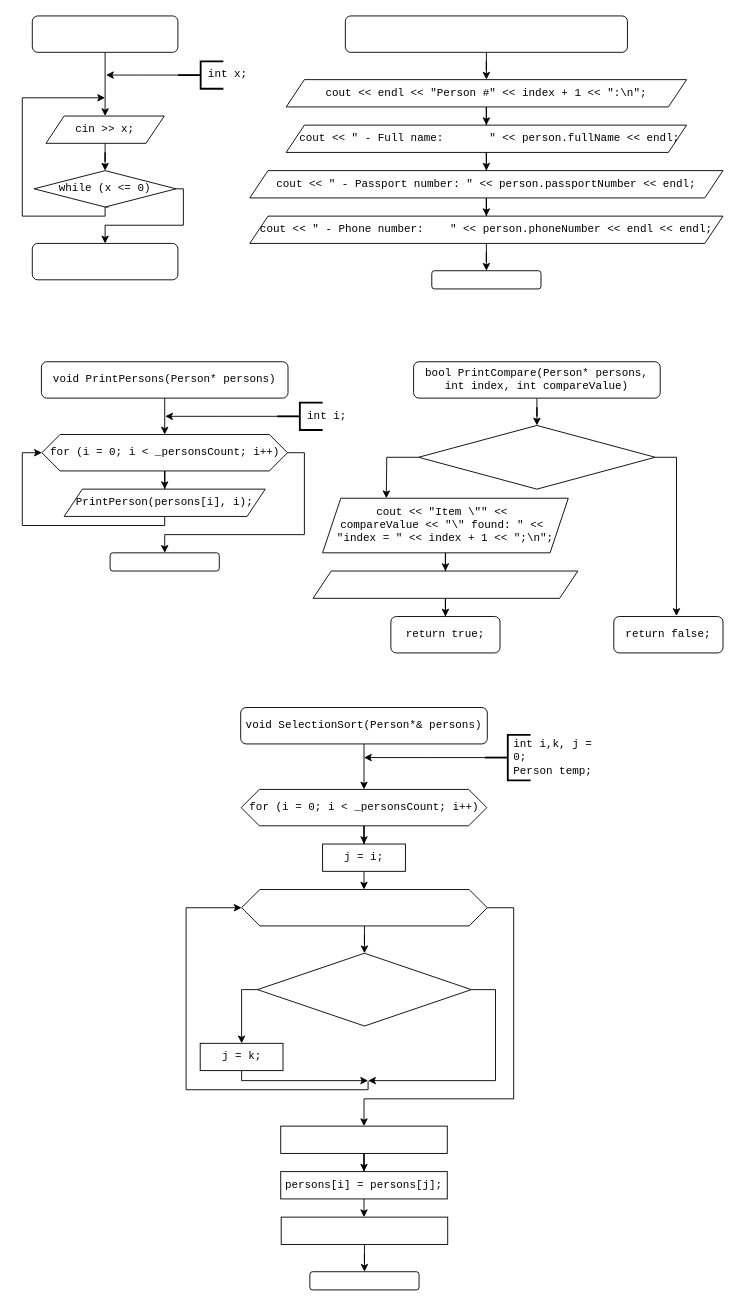
Image size: 739x1306. Some labels were removed from this diagram. Here are the shapes that lost their labels. From the top down, the box of each, then its label:
(31, 15, 178, 52): int ReadNaturalNum()
(344, 15, 627, 52): void PrintPerson(Person person, int index)
(31, 243, 178, 280): return x;
(418, 425, 655, 489): if ( persons[index].passportNumber == compareValue)
(312, 570, 578, 598): PrintPerson(persons[index], index);
(241, 889, 487, 926): for (k = i; k < _personsCount; k++)
(257, 952, 471, 1026): if (persons[j]. passportNumber > persons[k]. passportNumber)
(280, 1125, 447, 1153): temp = persons[i];
(280, 1216, 448, 1244): persons[j] = temp;
